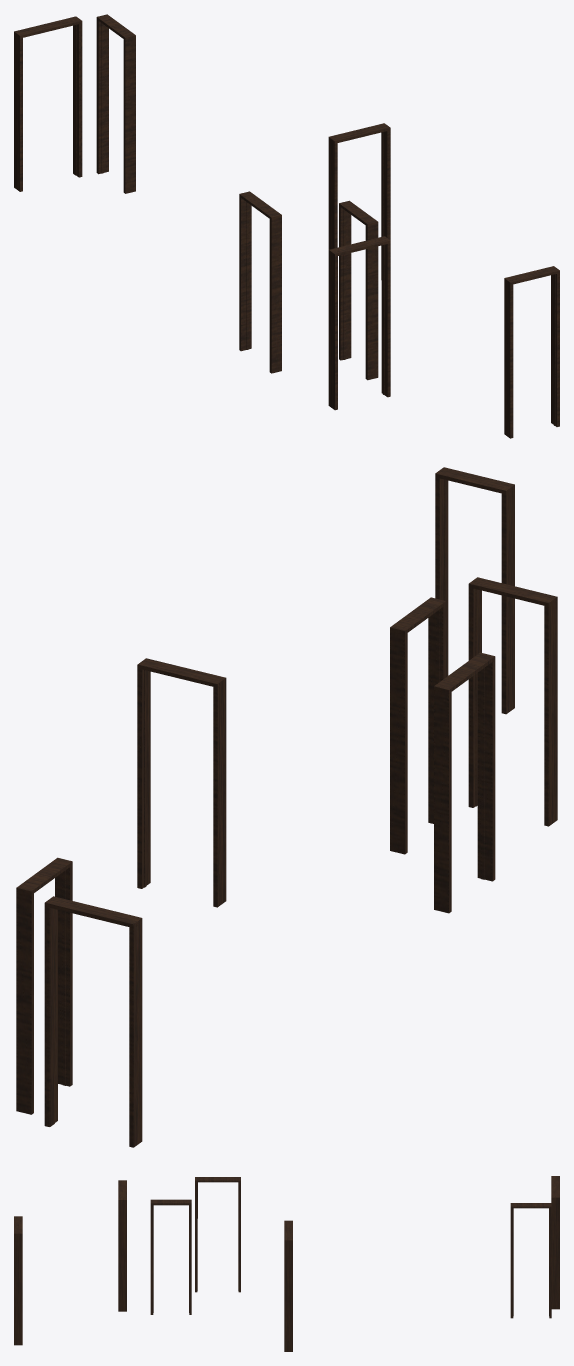
The model's file is SM_marcopuerta.fbx.
The picture shows the model from 3 angles, top to bottom: view 1: azimuth 30°, elevation 25°; view 2: azimuth 150°, elevation 25°; view 3: azimuth 270°, elevation 25°; orthographic projection. The views are drawn at different scales.
Parts seen in each view (by area): view 1: SM_marcopuerta; view 2: SM_marcopuerta; view 3: SM_marcopuerta.
Boxes of the visible parts, x1=… form: SM_marcopuerta: x1=14, y1=14, x2=559, y2=438; SM_marcopuerta: x1=16, y1=467, x2=557, y2=1147; SM_marcopuerta: x1=14, y1=1176, x2=559, y2=1351.
Bounding box in the file's own units: 2960 × 2400 × 10630.
1 material, 1 textured.
